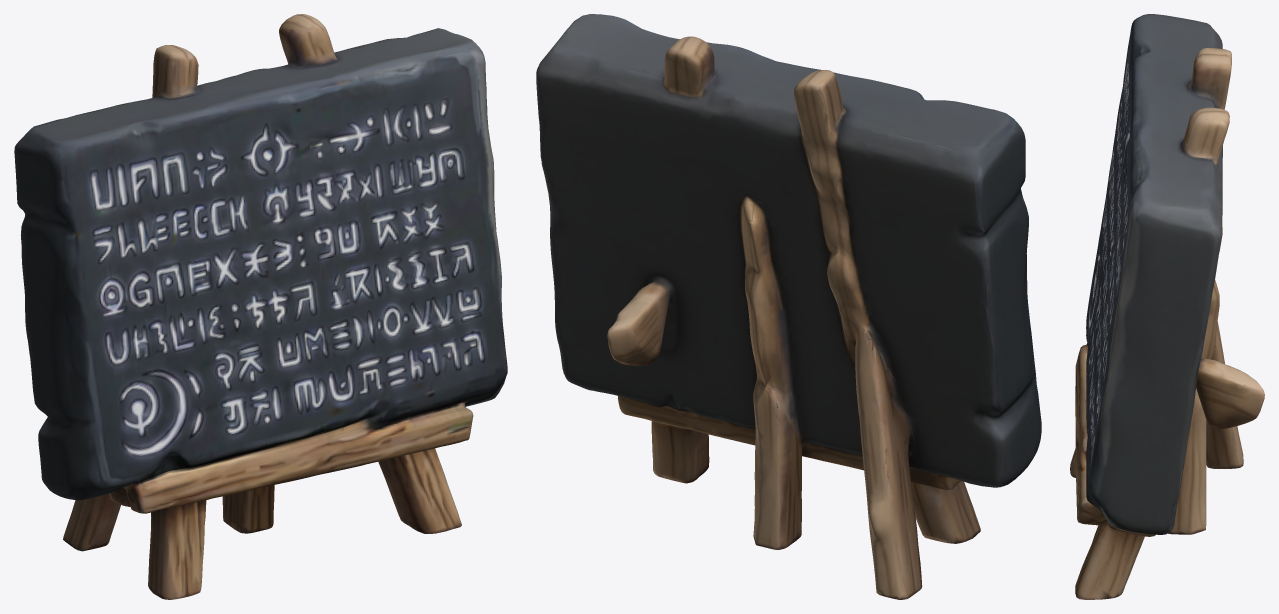
File: stonetablet.glb
The picture shows the model from 3 angles, left to right: view 1: azimuth 30°, elevation 25°; view 2: azimuth 150°, elevation 25°; view 3: azimuth 270°, elevation 25°; orthographic projection. The views are drawn at different scales.
Visible parts, largest first — view 1: StoneTablet; view 2: StoneTablet; view 3: StoneTablet.
Boxes of the visible parts, <box> form: StoneTablet: <box>14,14,507,599</box>; StoneTablet: <box>536,14,1041,599</box>; StoneTablet: <box>1070,14,1264,599</box>.
Bounding box in the file's own units: 0.572 × 0.6 × 0.2359.
Materials: 1 (1 with a texture image).
